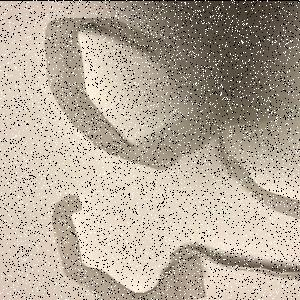Trash: (44, 17, 300, 300)
